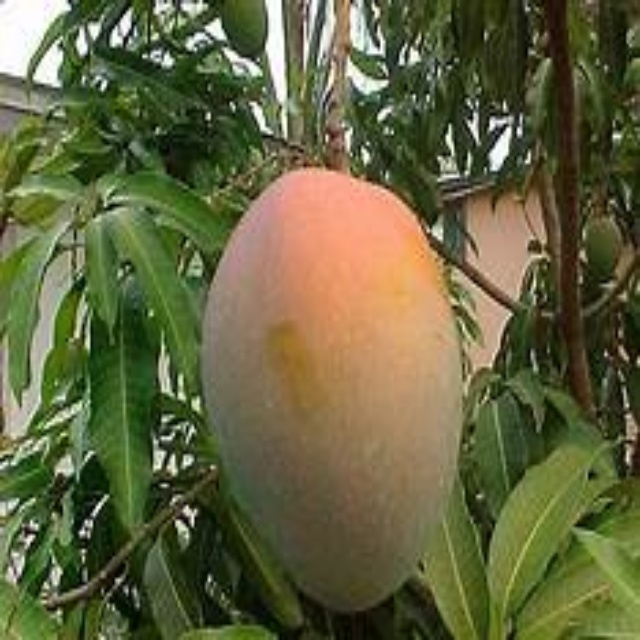mango: (200, 167, 471, 609), (224, 3, 273, 60), (586, 213, 620, 280)
